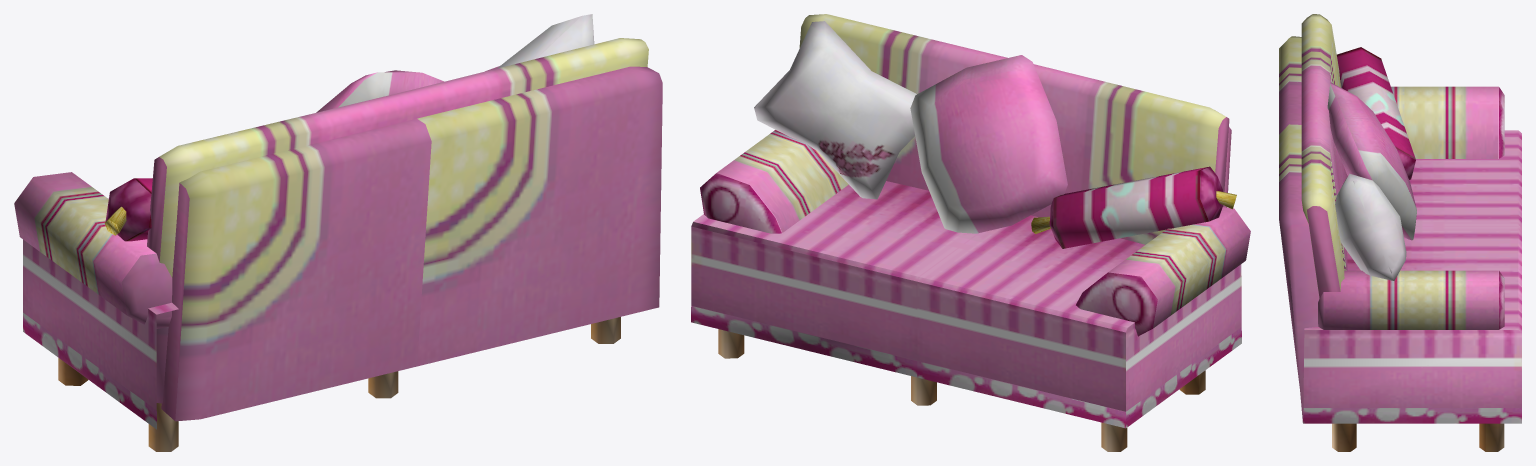
Rendered from furni_0200512_01.FBX.
The picture shows the model from 3 angles, left to right: view 1: azimuth 30°, elevation 25°; view 2: azimuth 150°, elevation 25°; view 3: azimuth 270°, elevation 25°; orthographic projection. The views are drawn at different scales.
Parts seen in each view (by area): view 1: furni_0200512_01; view 2: furni_0200512_01; view 3: furni_0200512_01.
Part boxes in pixels (box(x1,y1,x2,y2)): furni_0200512_01: box(14, 14, 662, 451); furni_0200512_01: box(691, 14, 1250, 451); furni_0200512_01: box(1279, 14, 1521, 451).
Bounding box in the file's own units: 159 × 94.22 × 76.9.
1 material, 1 textured.
